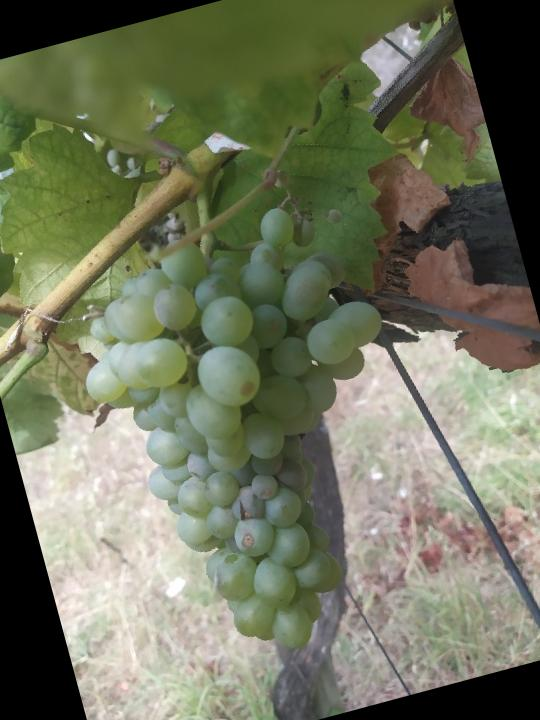grape: (52, 185, 462, 683)
